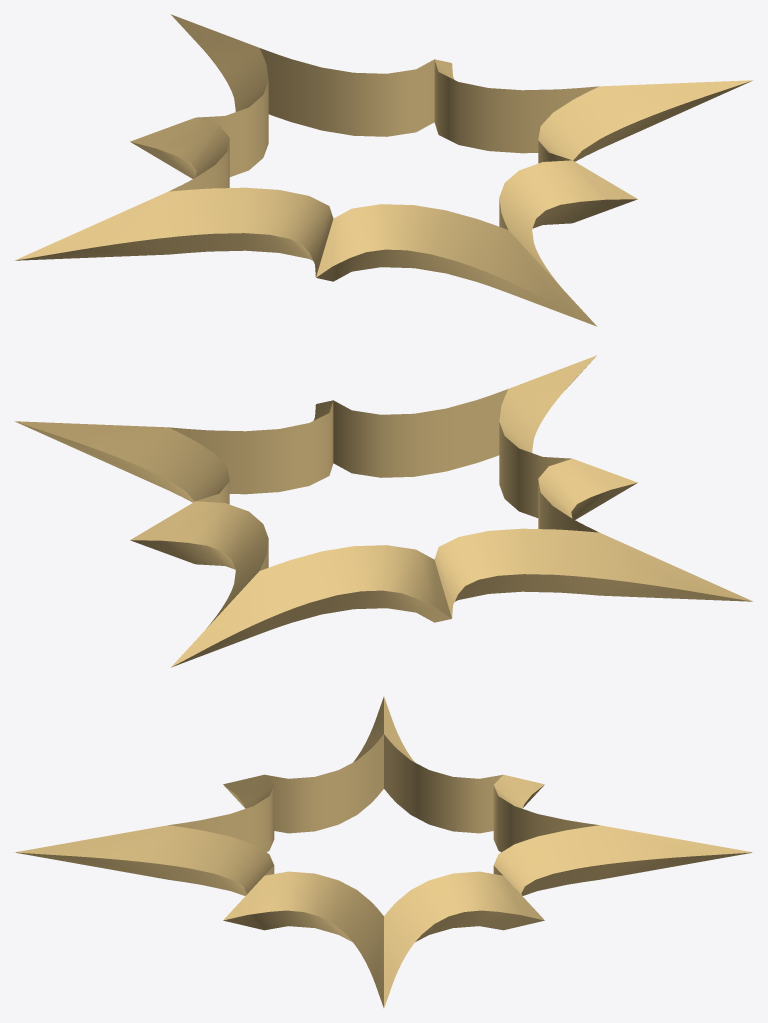
File: Sigil9.fbx
3 views of the same model, one above another, from view 1: azimuth 30°, elevation 25°; view 2: azimuth 150°, elevation 25°; view 3: azimuth 270°, elevation 25° (orthographic). The views are drawn at different scales.
Parts seen in each view (by area): view 1: Sigil_9; view 2: Sigil_9; view 3: Sigil_9.
Boxes of the visible parts, x1,y1,x2,y2 form: Sigil_9: (15,14,752,326); Sigil_9: (15,355,752,667); Sigil_9: (14,697,753,1007).
Size of the model in its own units: 0.1276 by 0.0104 by 0.1276.
